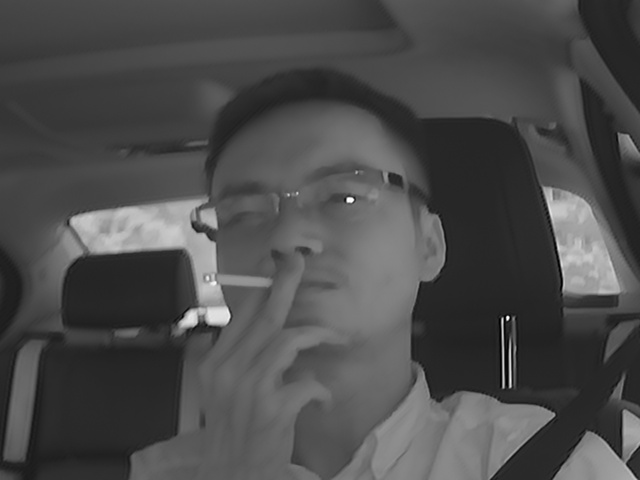hand: (218, 260, 347, 411)
